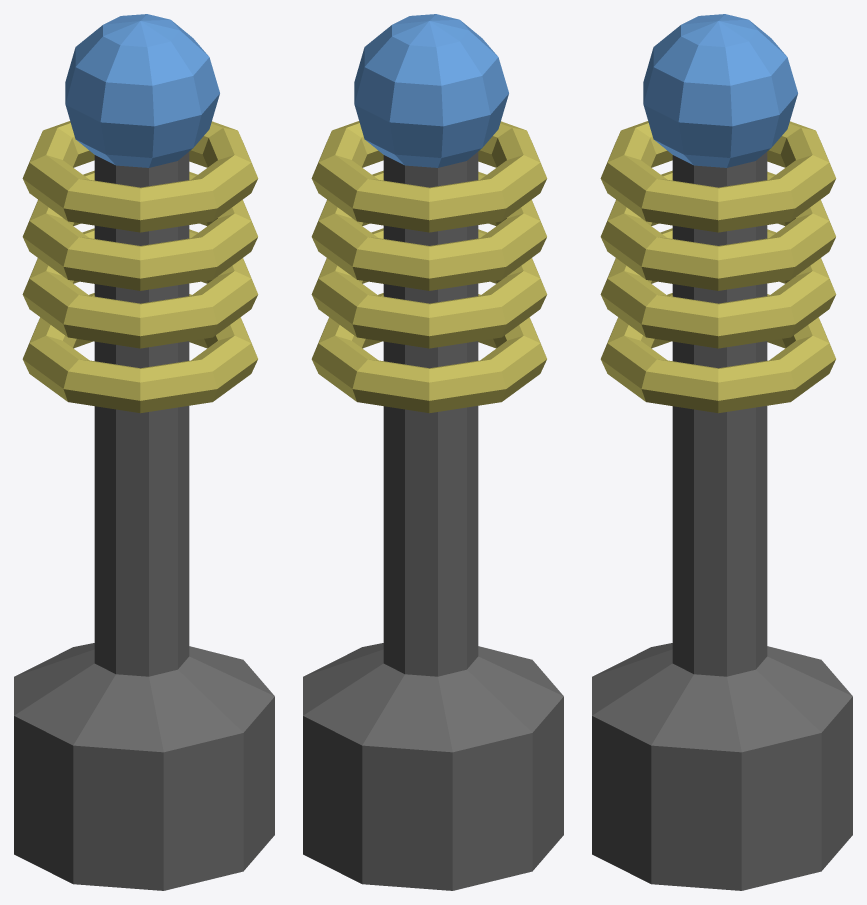
File: PowerPole.fbx
The picture shows the model from 3 angles, left to right: view 1: azimuth 30°, elevation 25°; view 2: azimuth 150°, elevation 25°; view 3: azimuth 270°, elevation 25°; orthographic projection.
Parts seen in each view (by area): view 1: PowerPole; view 2: PowerPole; view 3: PowerPole.
Part boxes in pixels (box(x1,y1,x2,y2)): PowerPole: box(14, 14, 274, 890); PowerPole: box(303, 14, 563, 890); PowerPole: box(592, 14, 852, 890).
Bounding box in the file's own units: 29.43 × 99.74 × 28.98.
